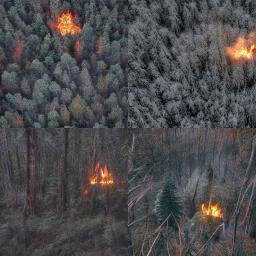Small fire: (220, 28, 256, 62), (87, 163, 121, 188), (201, 197, 231, 225), (50, 12, 79, 37)
